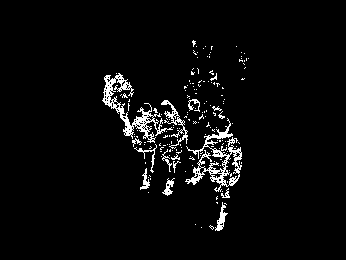person: (205, 119, 242, 234), (154, 99, 184, 197), (130, 104, 156, 191), (106, 71, 134, 138)
